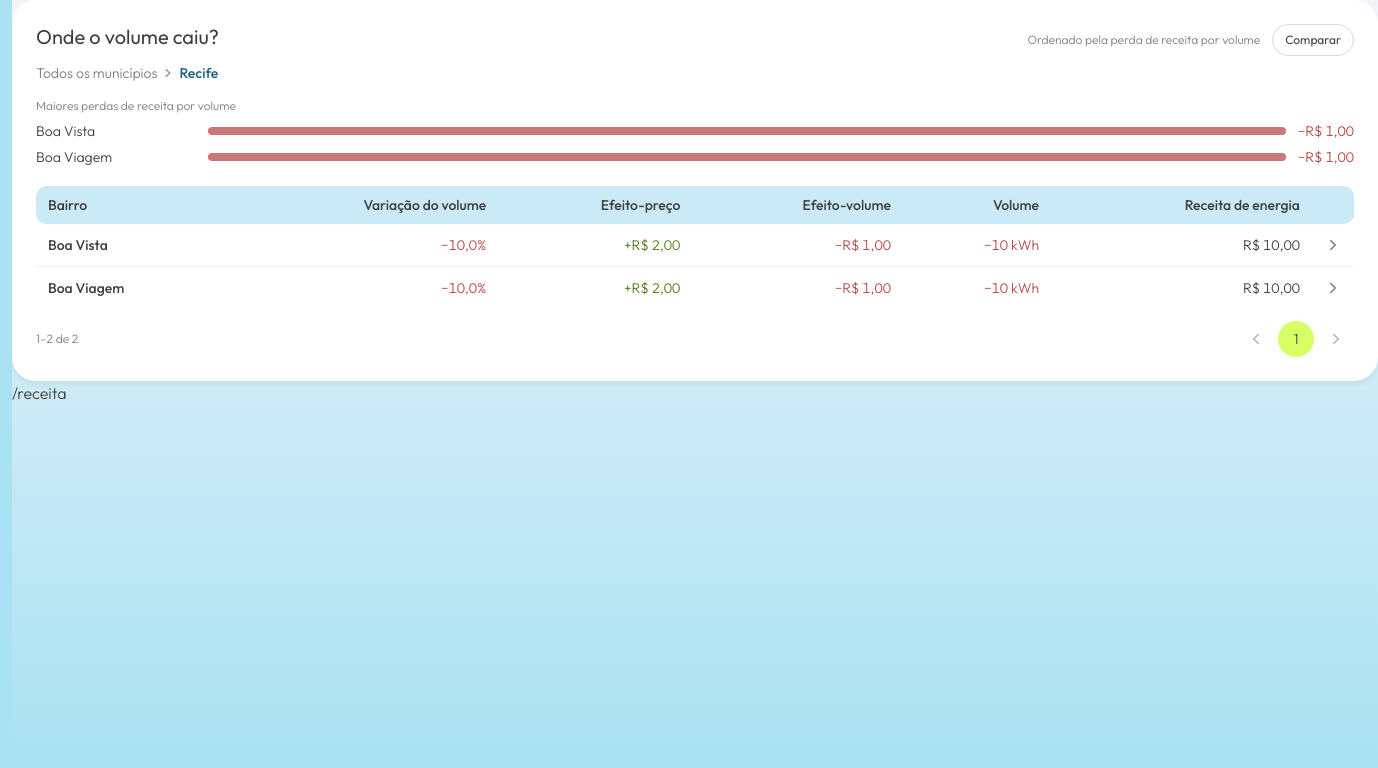
Test: nomes em maiúsculas vindos do banco › botão "Comparar" no drill-down leva os itens visíveis para a aba de comparação
Click the button "Comparar".
click(1313, 40)  # box [1272, 24, 1354, 56]
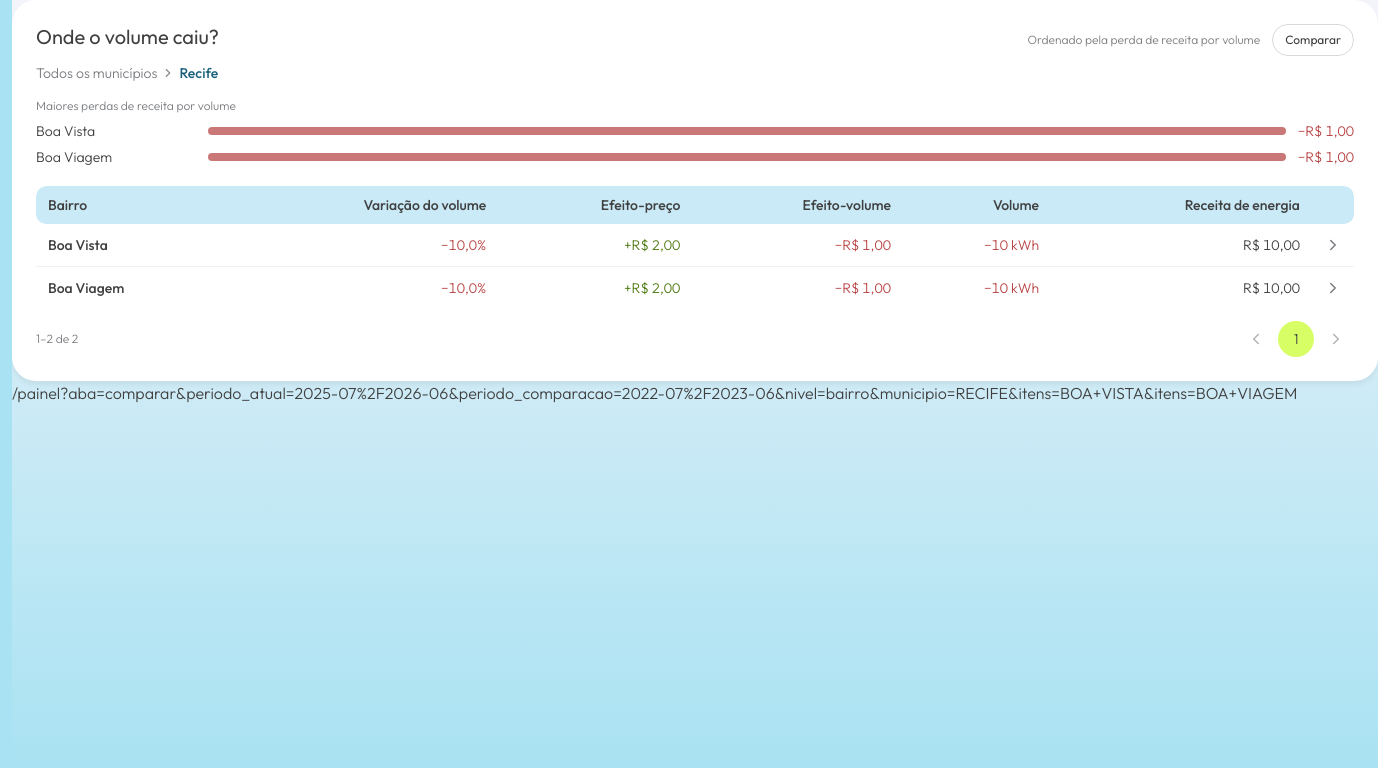
Check: the text named "Endereço" shows "/painel?aba=comparar", box [12, 383, 1297, 403]
Check: the text named "Endereço" shows "nivel=bairro", box [12, 383, 1297, 403]
Check: the text named "Endereço" shows "municipio=RECIFE", box [12, 383, 1297, 403]
